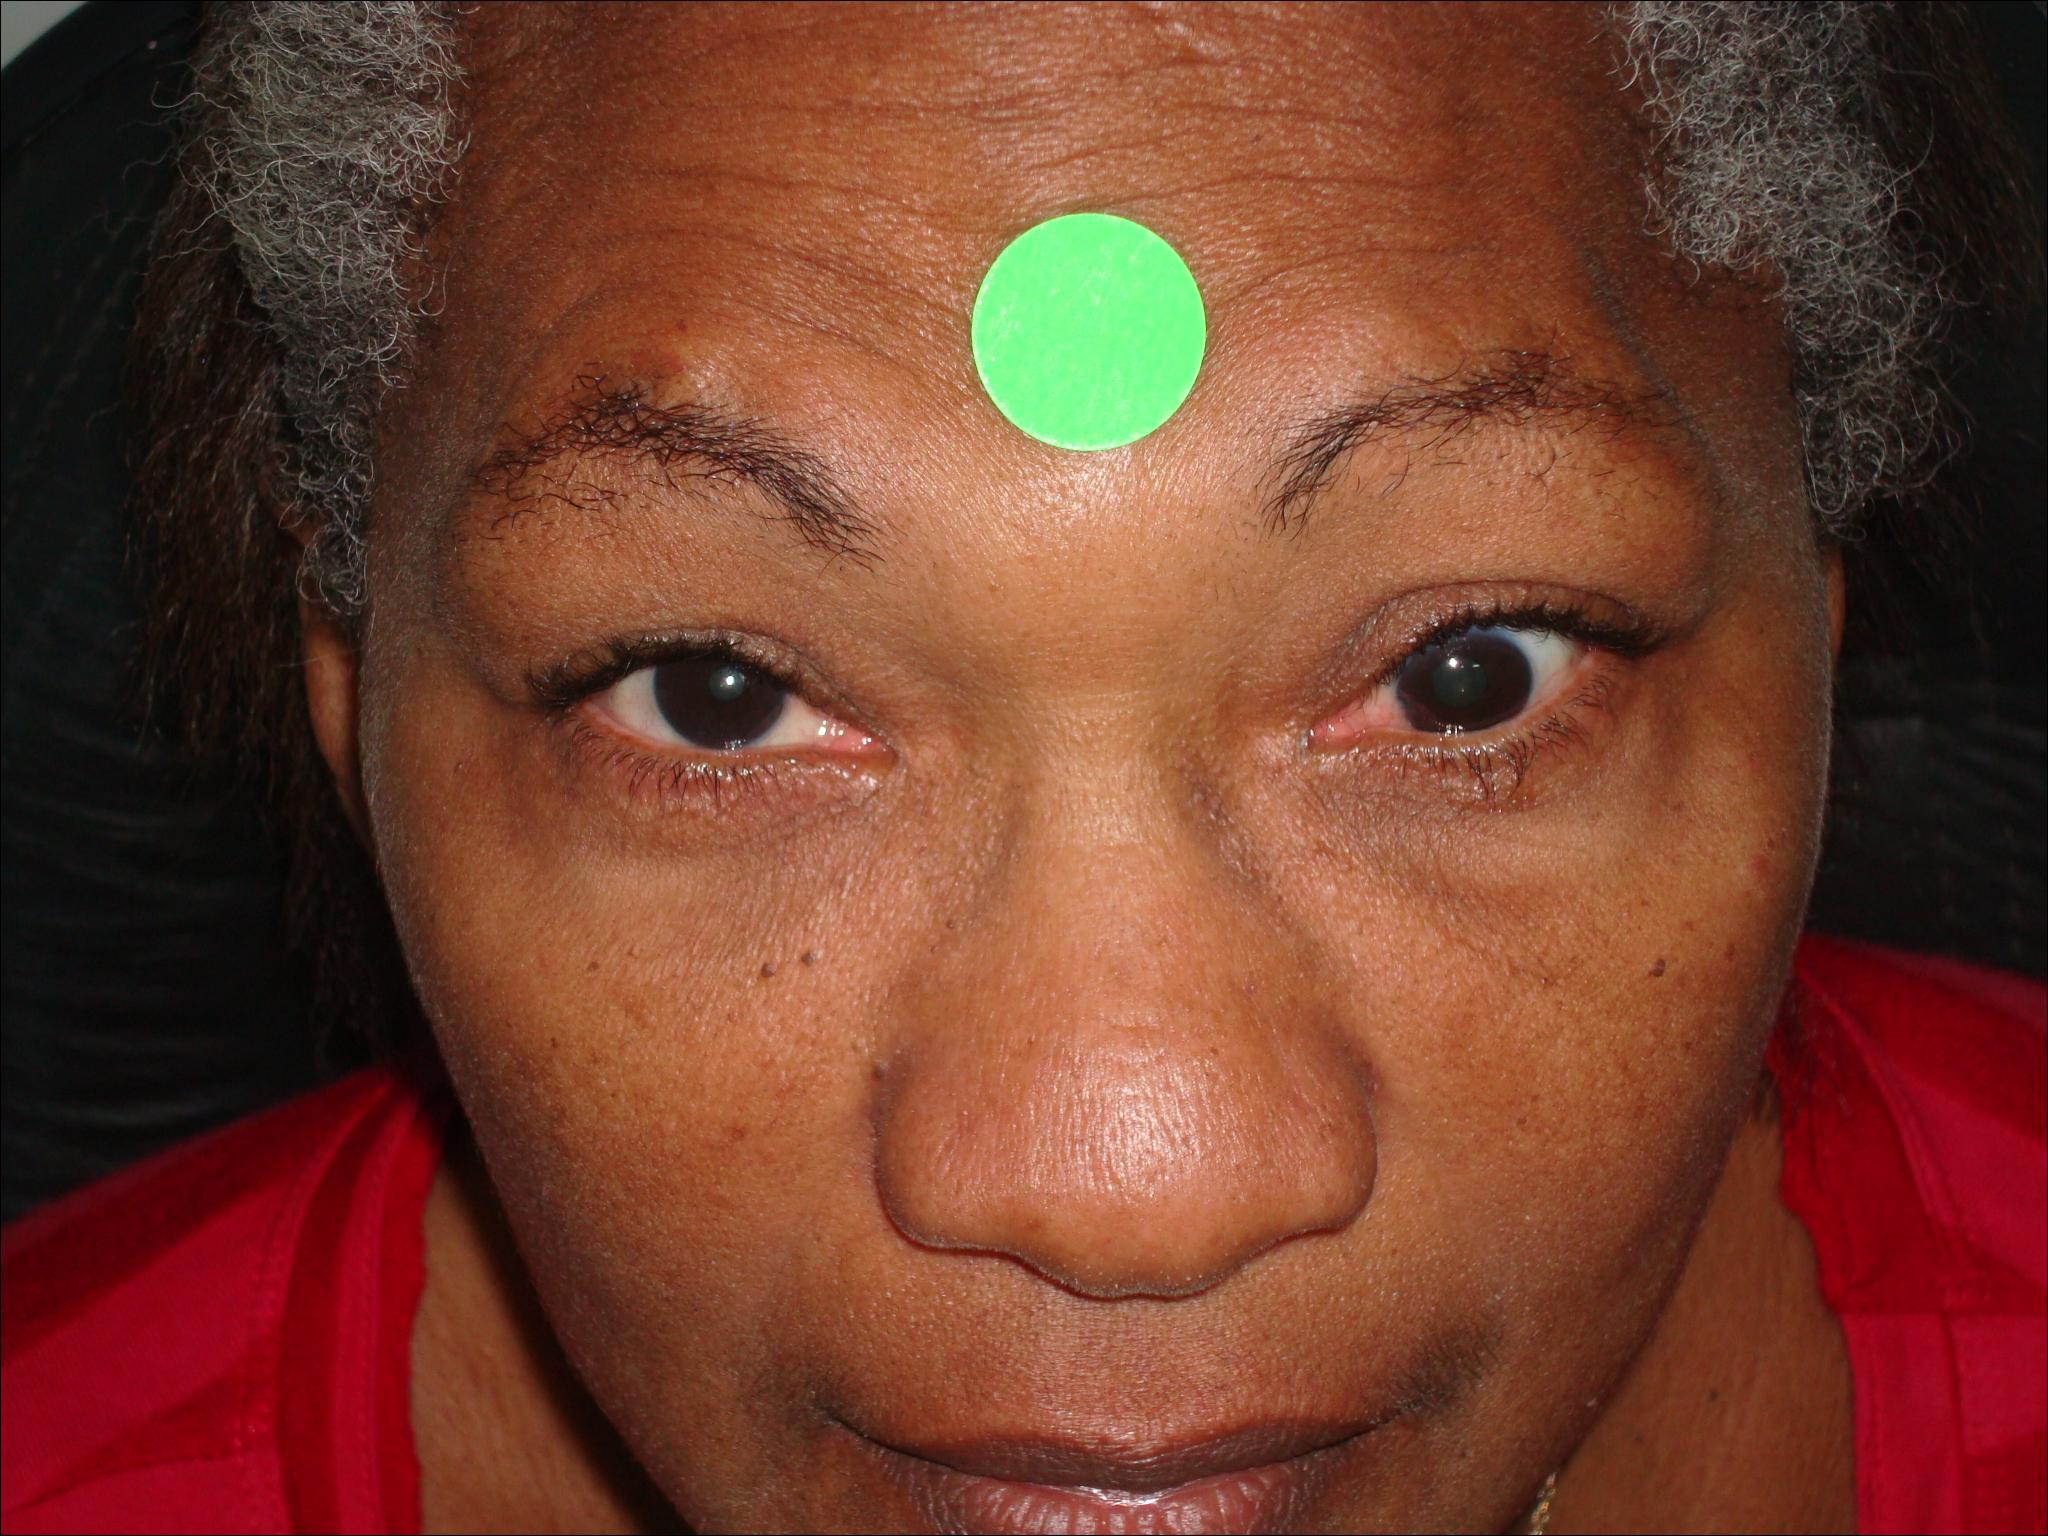flash: (1440, 650, 1464, 673), (719, 670, 742, 692)
limbo: (1385, 621, 1529, 736), (660, 624, 792, 741)
